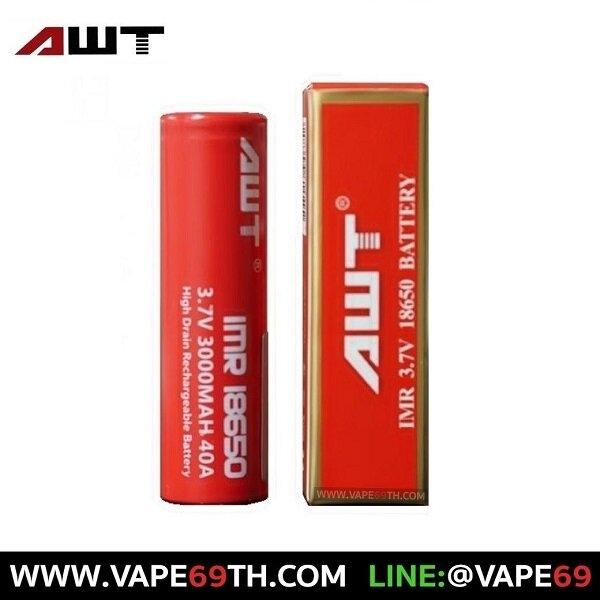Battery: (156, 109, 271, 508)
